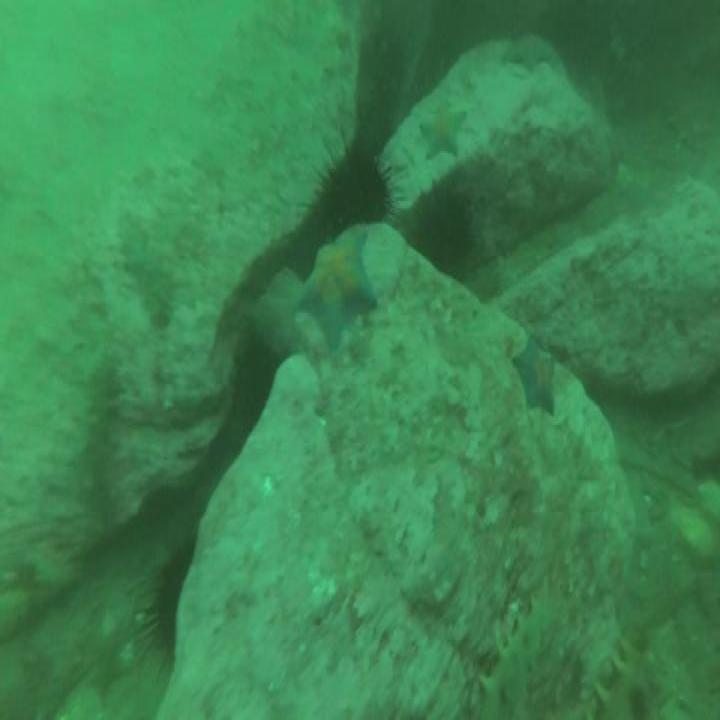echinus: (304, 140, 396, 240), (141, 532, 204, 674), (412, 182, 478, 284), (234, 340, 280, 426)
holothurian: (470, 574, 567, 718), (83, 350, 119, 532), (123, 210, 171, 329), (589, 634, 654, 720)
starfish: (296, 231, 381, 359), (512, 329, 561, 425), (417, 103, 468, 164), (500, 30, 559, 76)
